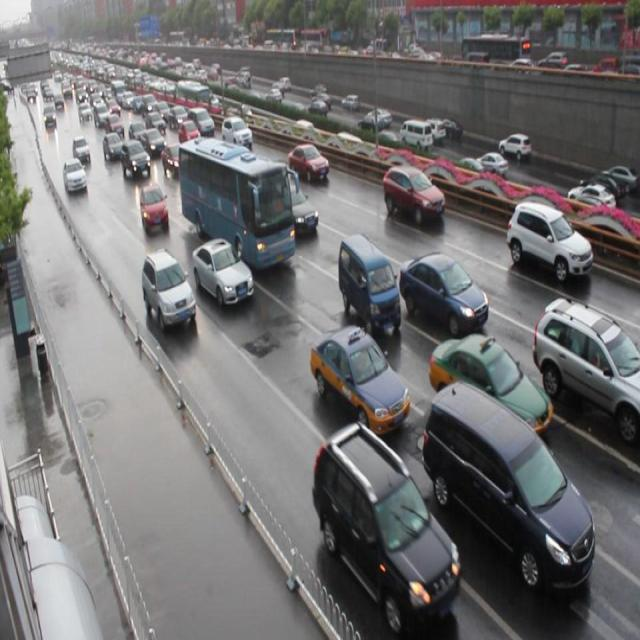car: (311, 419, 460, 640), (532, 296, 640, 442), (426, 334, 551, 431), (310, 322, 409, 435), (398, 250, 488, 332), (504, 198, 591, 282), (141, 250, 198, 332), (380, 162, 445, 226), (192, 236, 254, 303), (264, 166, 318, 238), (287, 142, 329, 183), (139, 182, 169, 233), (220, 114, 253, 150)
truck: (421, 380, 594, 586), (338, 230, 400, 335)
van: (178, 134, 294, 268)
